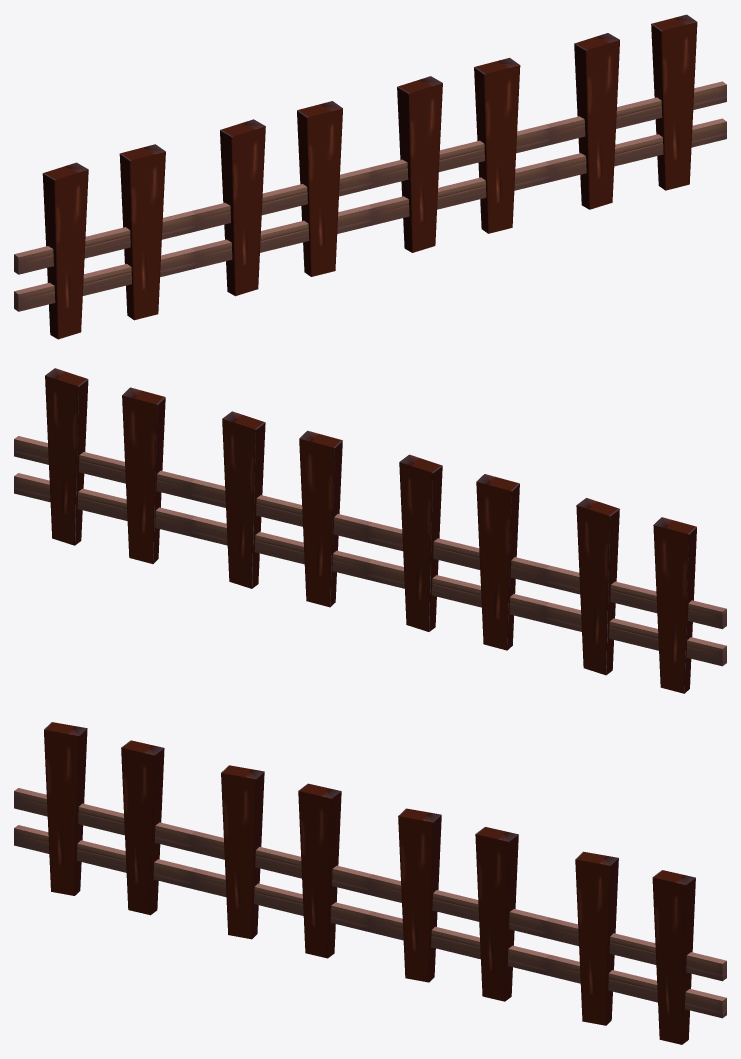
File: fence_2.gltf
3 views of the same model, one above another, from view 1: azimuth 30°, elevation 25°; view 2: azimuth 150°, elevation 25°; view 3: azimuth 330°, elevation 25° (orthographic).
Parts seen in each view (by area): view 1: Fence2Mesh; view 2: Fence2Mesh; view 3: Fence2Mesh.
Boxes of the visible parts, x1=… form: Fence2Mesh: x1=14, y1=14, x2=726, y2=339; Fence2Mesh: x1=14, y1=368, x2=726, y2=693; Fence2Mesh: x1=14, y1=722, x2=726, y2=1044.
Size of what is drawn, in the model's own units: 4 by 0.883 by 0.1103.
Materials: 1 (1 with a texture image).
